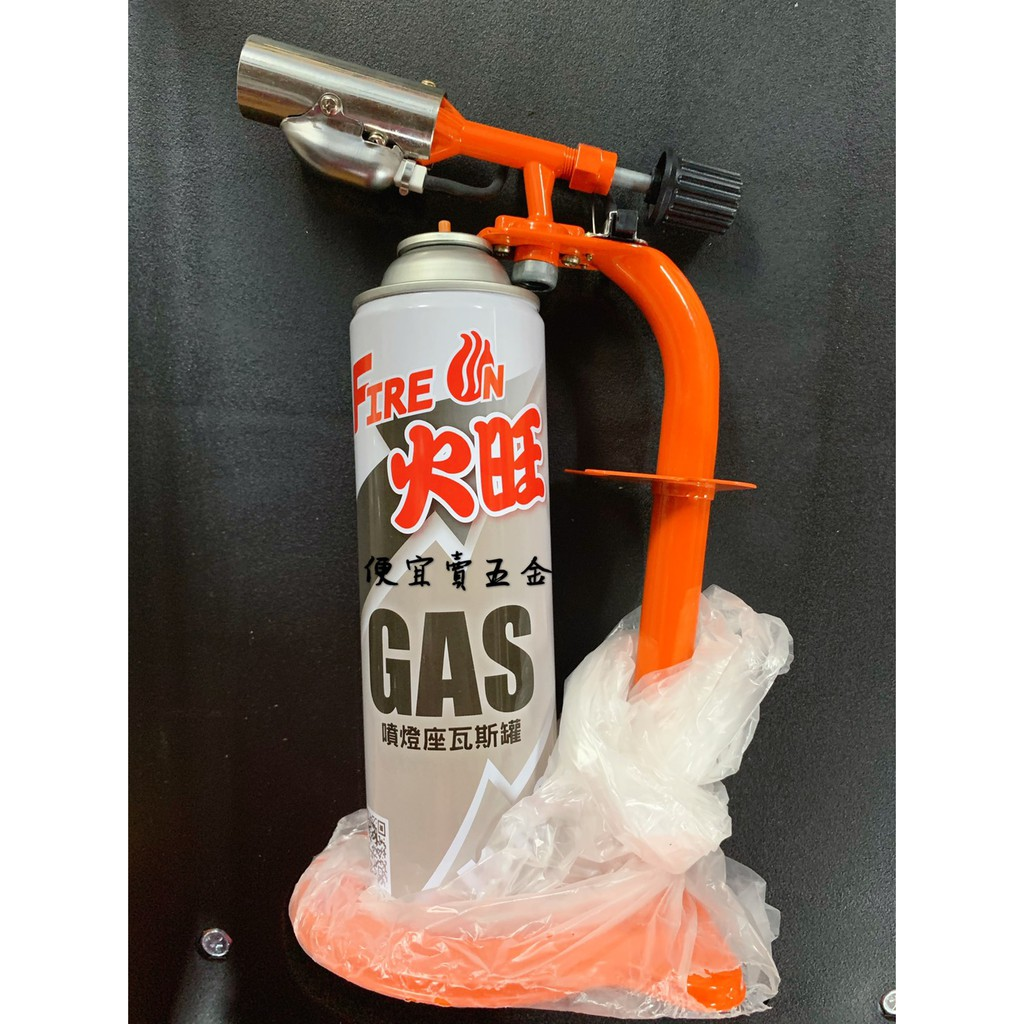gastorch: (230, 34, 794, 1017)
